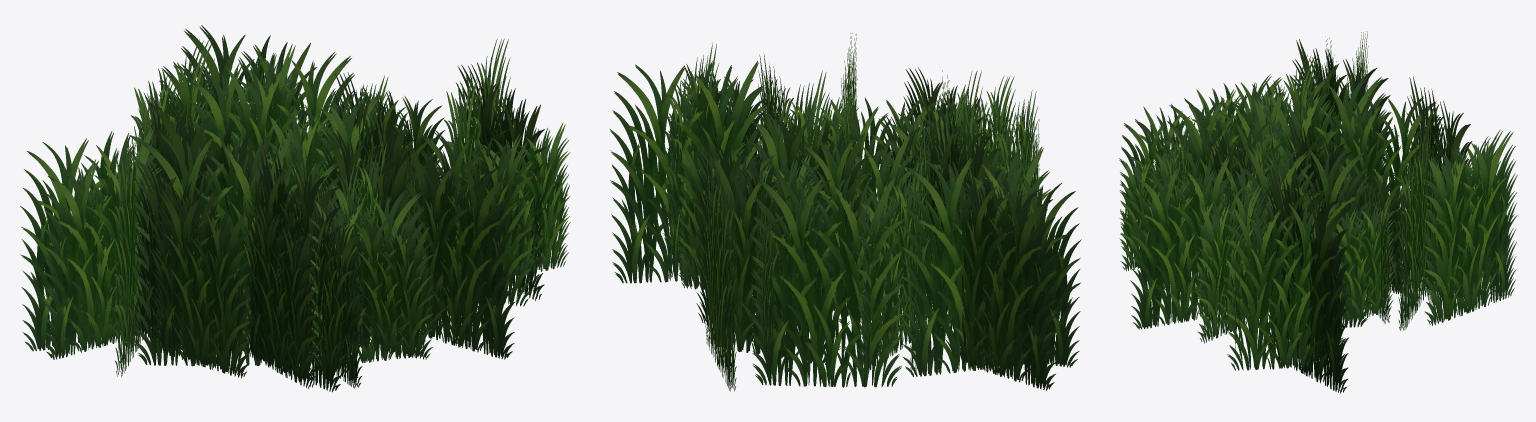
File: Herbes2.fbx
3 views of the same model, side by side, from view 1: azimuth 30°, elevation 25°; view 2: azimuth 150°, elevation 25°; view 3: azimuth 270°, elevation 25° (orthographic). The views are drawn at different scales.
Parts seen in each view (by area): view 1: Grass; view 2: Grass; view 3: Grass.
Part boxes in pixels (bbox=[...]): Grass: bbox=[20, 25, 570, 392]; Grass: bbox=[610, 33, 1081, 391]; Grass: bbox=[1119, 31, 1517, 393].
Size of the model in its own units: 692 by 335 by 596.
